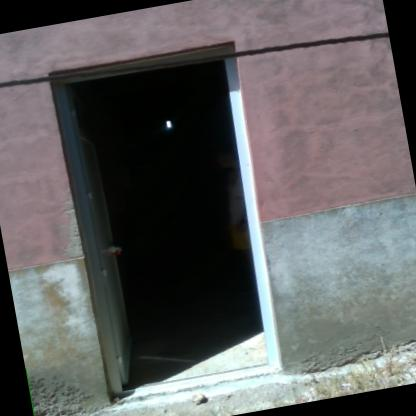open: (39, 37, 307, 414)
